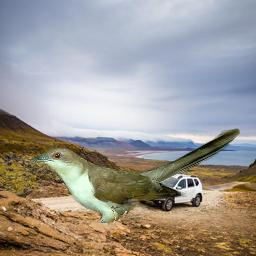Cuckoo: (30, 127, 240, 223)
